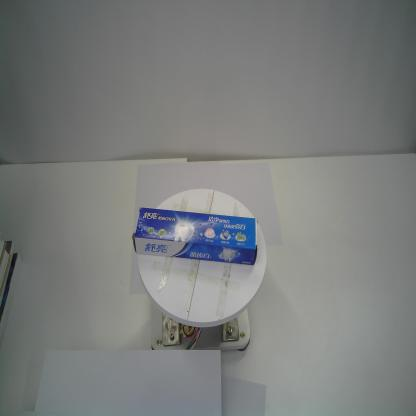Personal Hygiene: (131, 206, 259, 265)
